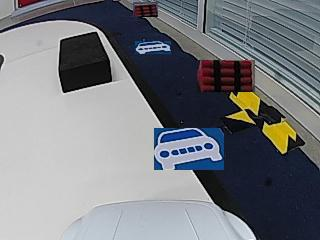block: (58, 32, 111, 92)
